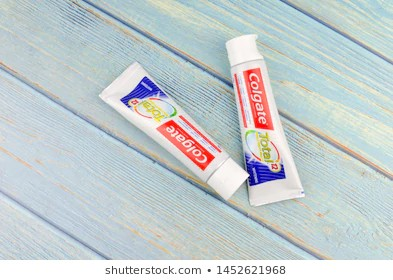colgate-total-150gm: (94, 49, 252, 205), (224, 33, 321, 213)
